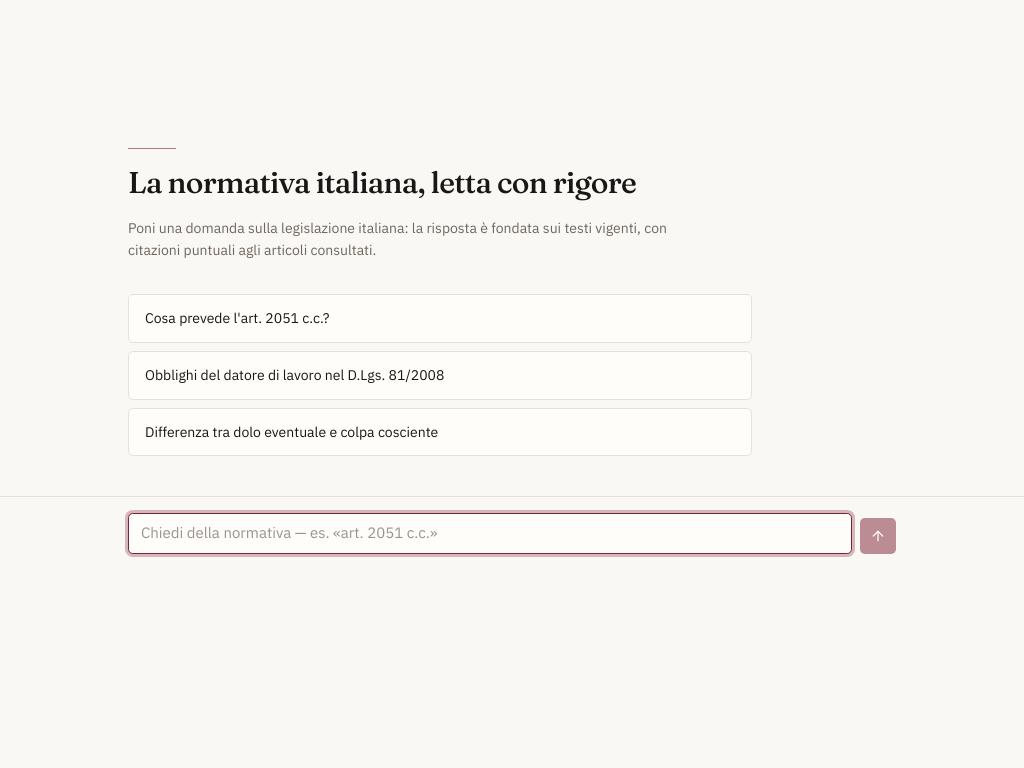
Test: FeedbackButtons in Chat › 👎 senza motivo → POST senza chiave reason
Type "domanda" into the text box named "Domanda sulla normativa".
click(490, 534); type("domanda")  # box [128,513,852,554]
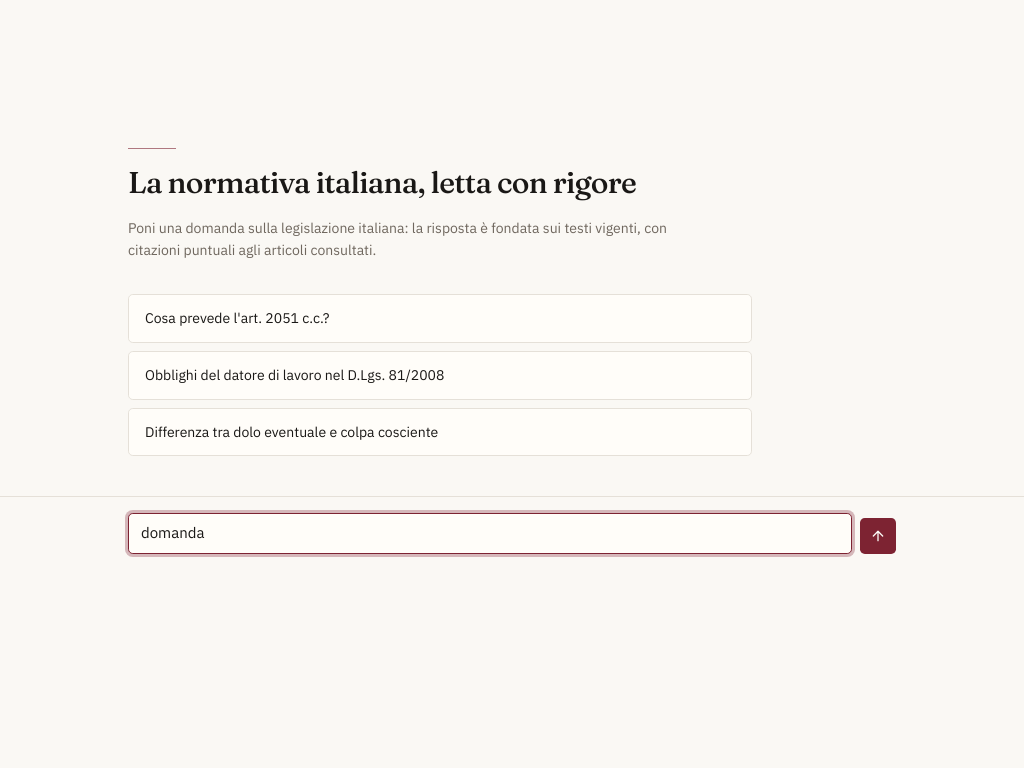
Press Enter in the text box named "Domanda sulla normativa", box [128,513,852,554]
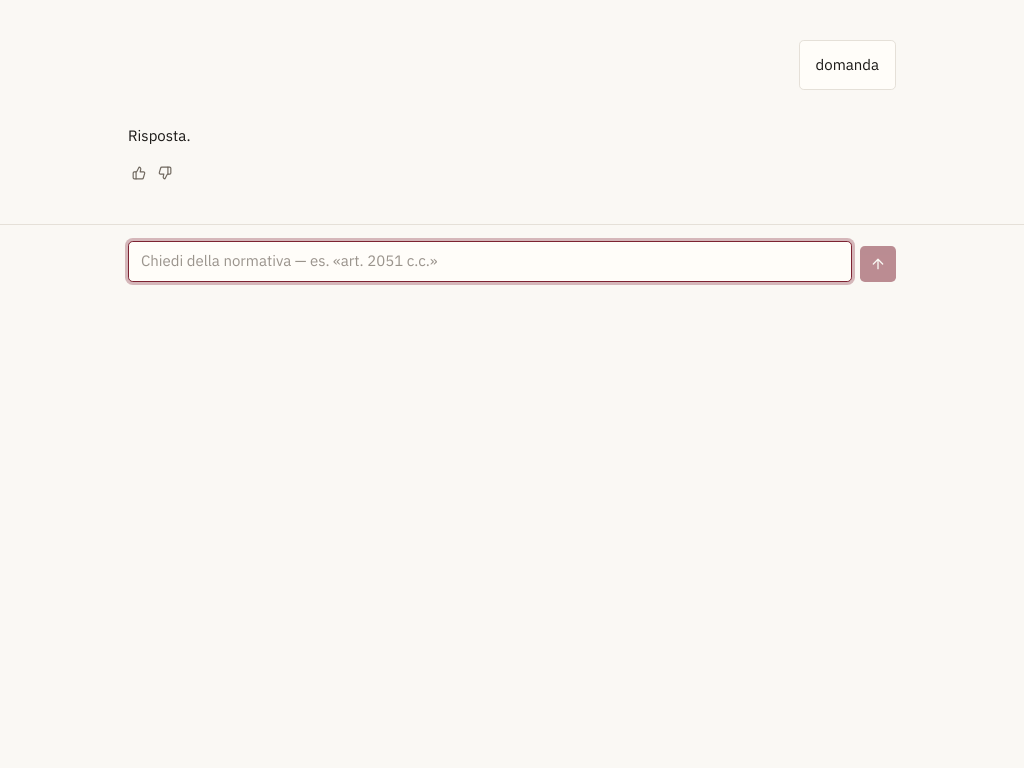
Click the button named "Risposta non utile".
click(165, 173)  # box [154,162,176,184]
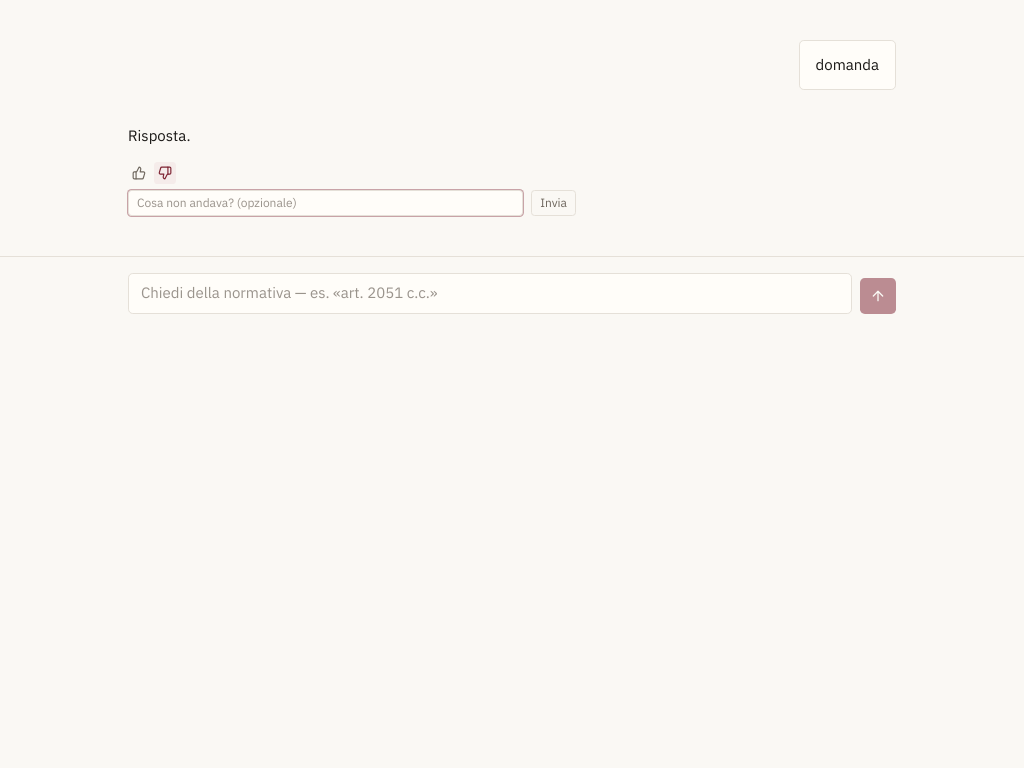
Click the button with aria-label "Invia il feedback".
click(554, 203)  # box [531,190,576,216]
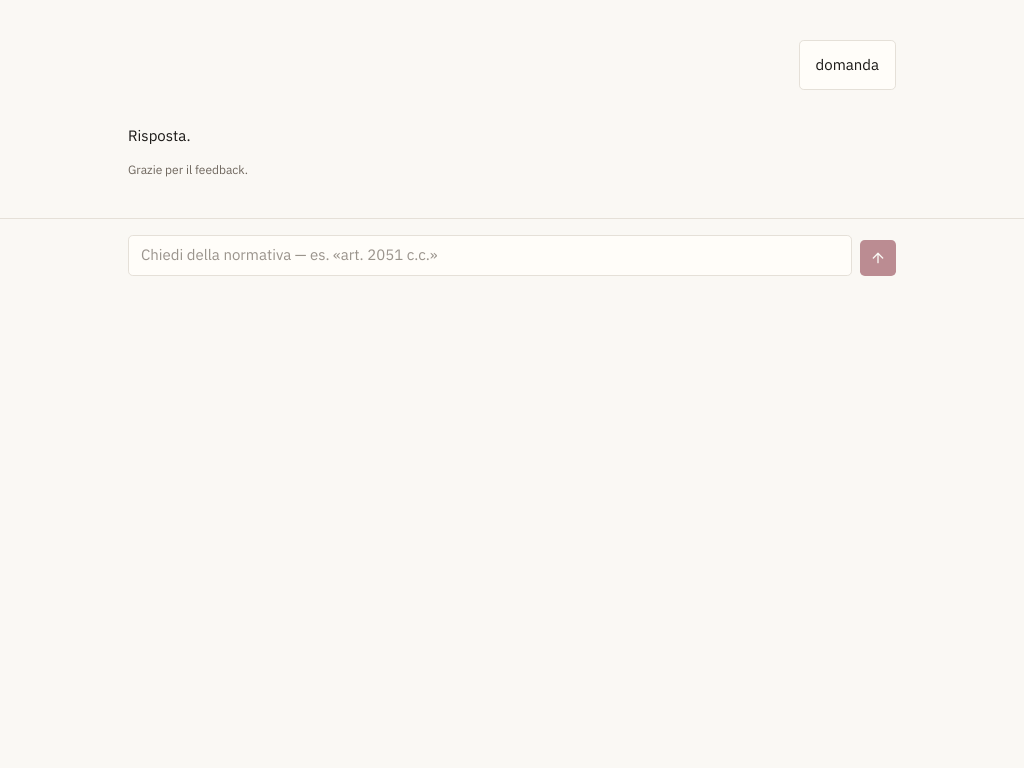
Check: the text "Grazie per il feedback." is shown, box [128,162,248,177]
